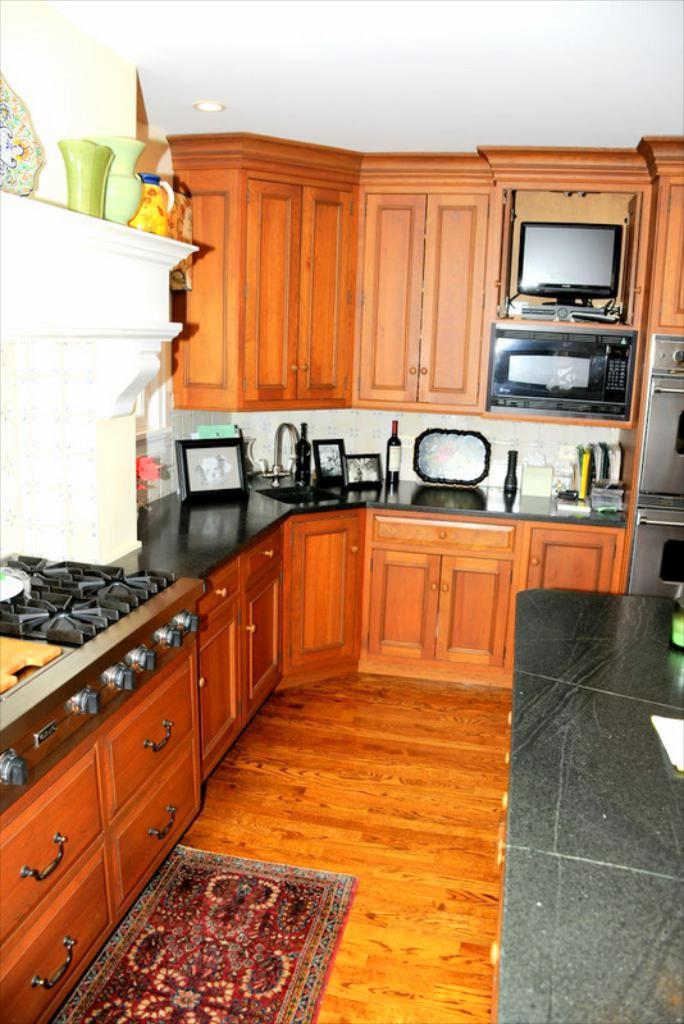cabinet door: (365, 198, 418, 400), (432, 198, 482, 401), (303, 198, 355, 393), (250, 192, 300, 390), (298, 523, 357, 639), (387, 518, 515, 565), (448, 562, 508, 660), (380, 553, 437, 656), (18, 907, 104, 974), (532, 538, 607, 600), (6, 812, 92, 863), (127, 791, 188, 842), (245, 600, 278, 688), (123, 713, 187, 752), (204, 643, 230, 737), (670, 191, 684, 309), (209, 576, 237, 614), (245, 552, 284, 573)
handle: (33, 936, 77, 984), (24, 838, 68, 883), (146, 811, 181, 849), (145, 718, 176, 752), (193, 667, 208, 704), (244, 613, 259, 641), (261, 543, 275, 567), (214, 582, 228, 602)
